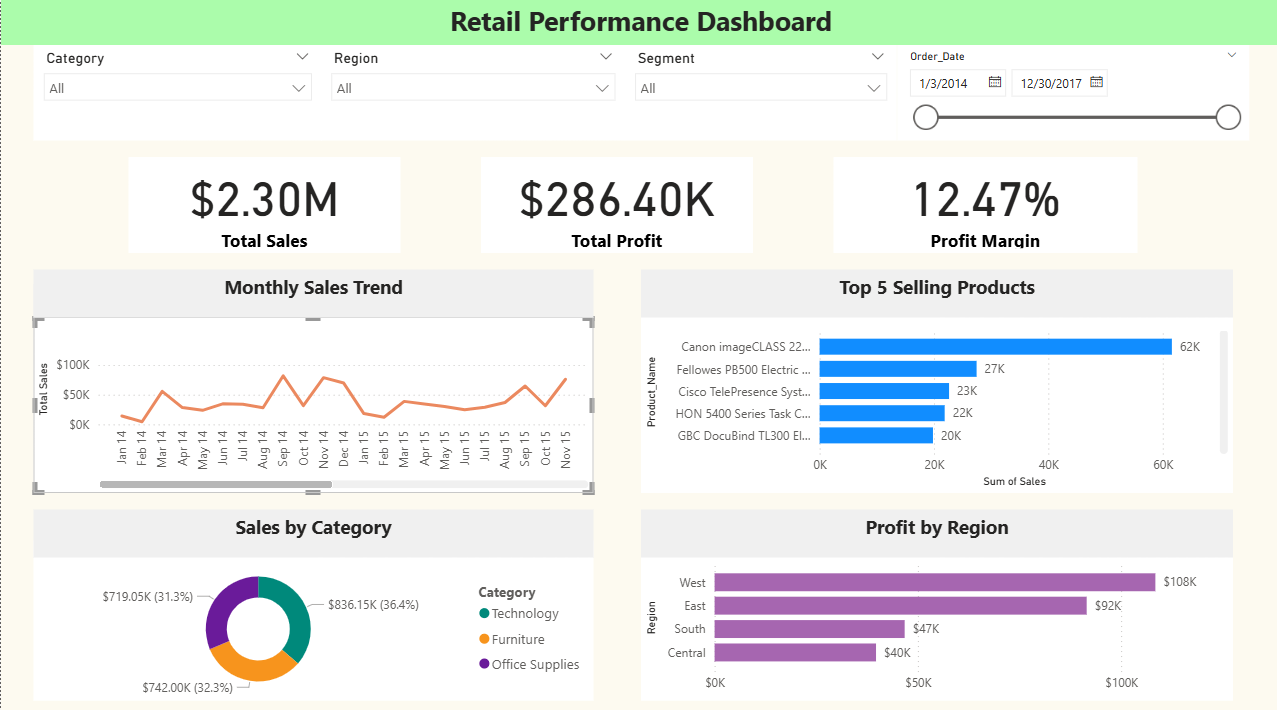

The page's visual inventory and layout, read from the dashboard file:
{"tool":"powerbi","page":{"name":"Page 1","canvas":[1280,720],"ordinal":0},"visuals":[{"type":"card","fields":{"Values":["👉 Superstore_Cleaned.Total Sales"]},"box":[128,160,272,96],"z":0},{"type":"card","fields":{"Values":["👉 Superstore_Cleaned.Total Profit"]},"box":[480,160,272,96],"z":1000},{"type":"card","fields":{"Values":["👉 Superstore_Cleaned.Profit Margin"]},"box":[832,160,304,96],"z":2000},{"type":"lineChart","fields":{"Y":["👉 Superstore_Cleaned.Total Sales"],"Category":["👉 Superstore_Cleaned.MonthYear"]},"box":[32,320,560,176],"z":3000},{"type":"slicer","fields":{"Values":["👉 Superstore_Cleaned.Category"]},"box":[32,48,288,96],"z":4000},{"type":"slicer","fields":{"Values":["👉 Superstore_Cleaned.Region"]},"box":[320,48,304,96],"z":5000},{"type":"slicer","fields":{"Values":["👉 Superstore_Cleaned.Segment"]},"box":[624,48,272,96],"z":6000},{"type":"slicer","fields":{"Values":["👉 Superstore_Cleaned.Order_Date"]},"box":[896,48,352,96],"z":7000},{"type":"shape","box":[32,288,432,32],"z":8000},{"type":"textbox","box":[0,0,1280,48],"z":9000},{"type":"clusteredBarChart","fields":{"Y":["Sum(👉 Superstore_Cleaned.Sales)"],"Category":["👉 Superstore_Cleaned.Product_Name"]},"box":[640,320,592,176],"z":10000},{"type":"textbox","box":[32,272,560,48],"z":11000},{"type":"shape","box":[640,288,592,32],"z":12000},{"type":"textbox","box":[640,272,592,48],"z":13000},{"type":"donutChart","title":"Sales by Category","fields":{"Category":["👉 Superstore_Cleaned.Category"],"Y":["👉 Superstore_Cleaned.Total Sales"]},"box":[32,544,560,160],"z":14000},{"type":"textbox","box":[32,512,560,48],"z":15000},{"type":"clusteredBarChart","title":"Profit by Region","fields":{"Category":["👉 Superstore_Cleaned.Region"],"Y":["👉 Superstore_Cleaned.Total Profit"]},"box":[640,544,592,160],"z":16000},{"type":"textbox","box":[640,512,592,48],"z":17000}]}

Visuals, with their boxes in screenshot pixels (x1, y1, x2, y2), scaled from the page's 1280x720 canvas onto the 1277x710 screenshot:
card - 👉 Superstore_Cleaned.Total Sales: bbox=[128, 158, 399, 252]
card - 👉 Superstore_Cleaned.Total Profit: bbox=[479, 158, 750, 252]
card - 👉 Superstore_Cleaned.Profit Margin: bbox=[830, 158, 1133, 252]
lineChart - 👉 Superstore_Cleaned.Total Sales x 👉 Superstore_Cleaned.MonthYear: bbox=[32, 316, 591, 489]
slicer - 👉 Superstore_Cleaned.Category: bbox=[32, 47, 319, 142]
slicer - 👉 Superstore_Cleaned.Region: bbox=[319, 47, 623, 142]
slicer - 👉 Superstore_Cleaned.Segment: bbox=[623, 47, 894, 142]
slicer - 👉 Superstore_Cleaned.Order_Date: bbox=[894, 47, 1245, 142]
shape: bbox=[32, 284, 463, 316]
textbox: bbox=[0, 0, 1276, 47]
clusteredBarChart - Sum(👉 Superstore_Cleaned.Sales) x 👉 Superstore_Cleaned.Product_Name: bbox=[638, 316, 1229, 489]
textbox: bbox=[32, 268, 591, 316]
shape: bbox=[638, 284, 1229, 316]
textbox: bbox=[638, 268, 1229, 316]
"Sales by Category" donutChart: bbox=[32, 536, 591, 694]
textbox: bbox=[32, 505, 591, 552]
"Profit by Region" clusteredBarChart: bbox=[638, 536, 1229, 694]
textbox: bbox=[638, 505, 1229, 552]
